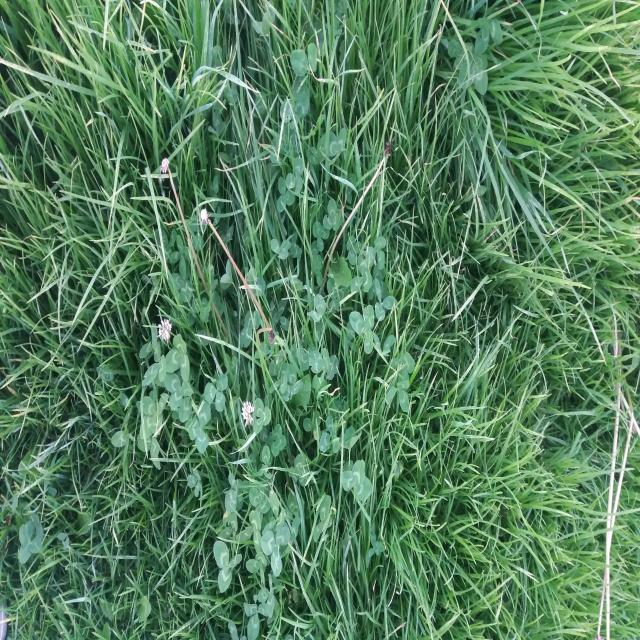Four Leaf Clover: (139, 393, 168, 439), (249, 486, 271, 523)
